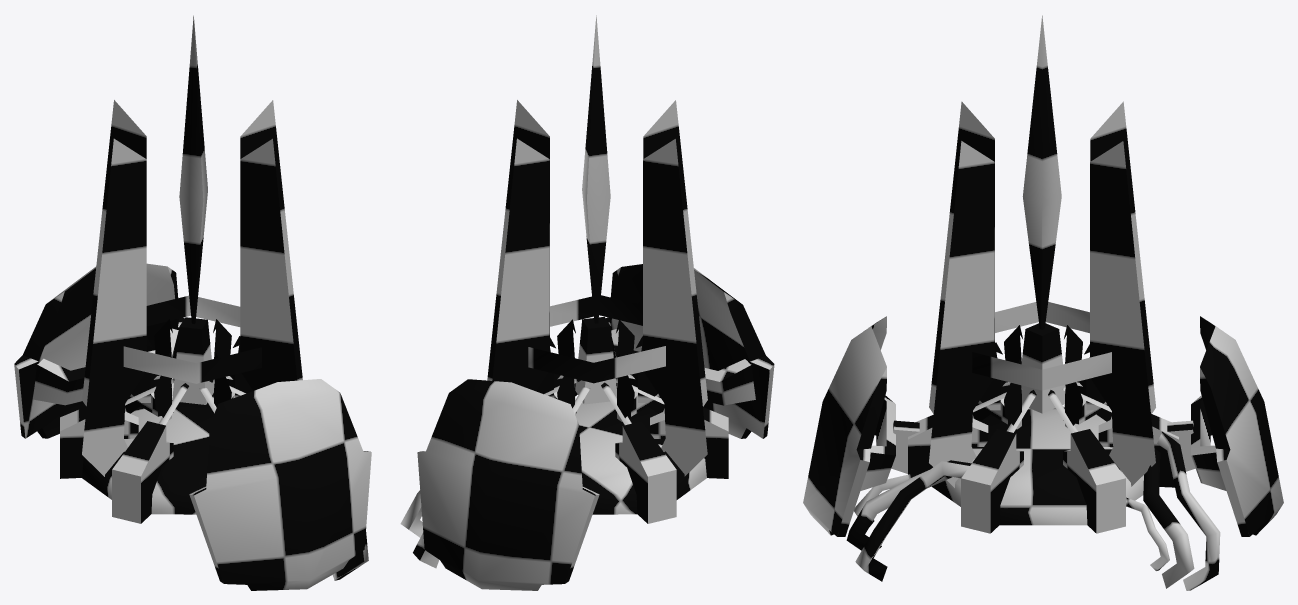
The model's file is ga_laser_module.obj.
The picture shows the model from 3 angles, left to right: view 1: azimuth 30°, elevation 25°; view 2: azimuth 150°, elevation 25°; view 3: azimuth 270°, elevation 25°; orthographic projection.
Parts seen in each view (by area): view 1: cbs_module_laser_ga; view 2: cbs_module_laser_ga; view 3: cbs_module_laser_ga.
Boxes of the visible parts, x1,y1,x2,y2 form: cbs_module_laser_ga: (14, 15, 371, 590); cbs_module_laser_ga: (400, 15, 774, 590); cbs_module_laser_ga: (803, 15, 1283, 590).
Size of the model in its own units: 80.31 by 170 by 139.
Materials: 1 (1 with a texture image).
